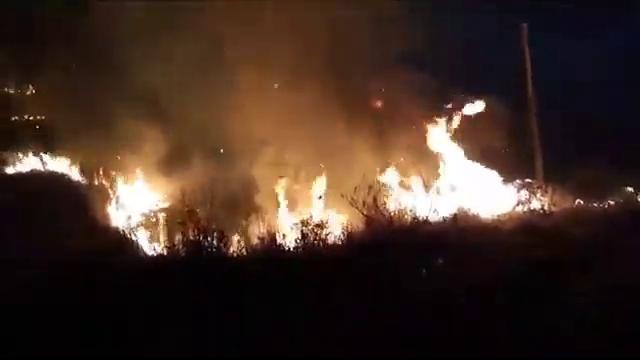fire: (445, 158, 504, 216), (106, 180, 163, 223), (312, 178, 345, 242), (276, 182, 292, 255), (9, 153, 72, 171)
smoke: (212, 37, 340, 115)
